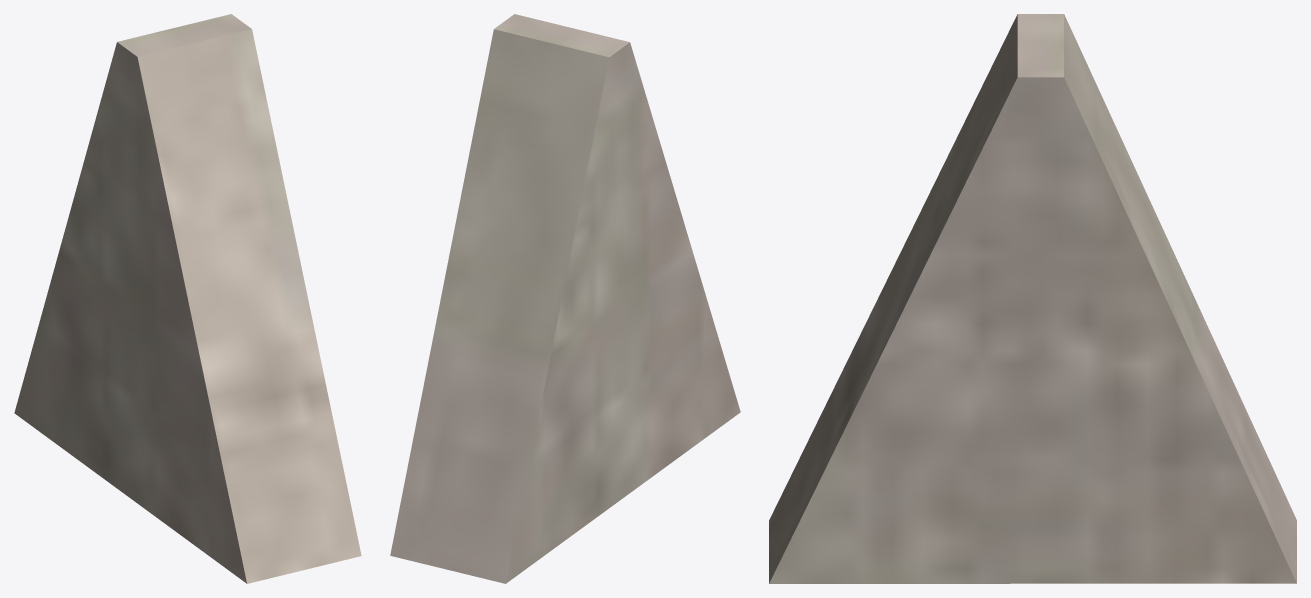
File: pasted__marble_tile_15.fbx
The picture shows the model from 3 angles, left to right: view 1: azimuth 30°, elevation 25°; view 2: azimuth 150°, elevation 25°; view 3: azimuth 270°, elevation 25°; orthographic projection. The views are drawn at different scales.
Visible parts, largest first — view 1: pasted__marble_tile_15; view 2: pasted__marble_tile_15; view 3: pasted__marble_tile_15.
Boxes of the visible parts, bbox=[...] form: pasted__marble_tile_15: bbox=[14, 14, 361, 583]; pasted__marble_tile_15: bbox=[390, 14, 740, 583]; pasted__marble_tile_15: bbox=[769, 14, 1296, 583].
Size of the model in its own units: 3 by 10.57 by 11.19.
